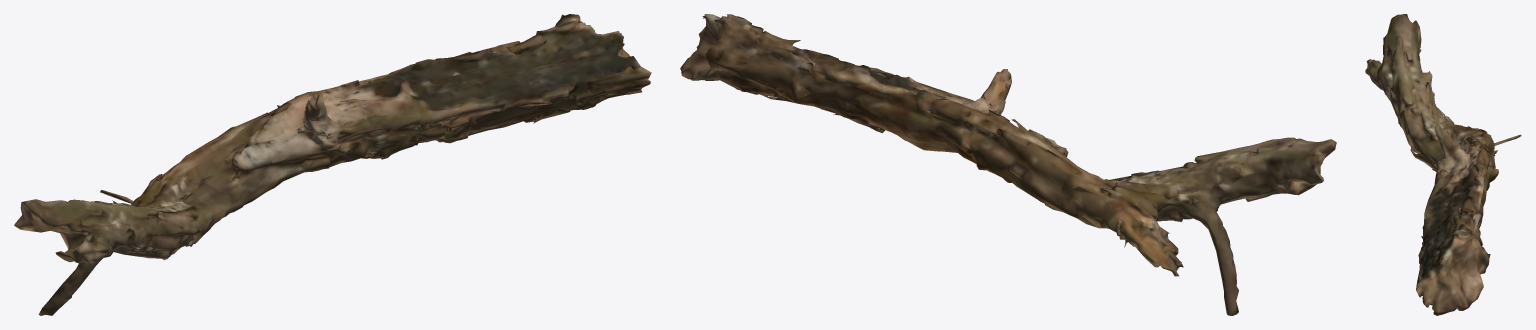
File: dead_tree_trunk_02_lod2.glb
The picture shows the model from 3 angles, left to right: view 1: azimuth 30°, elevation 25°; view 2: azimuth 150°, elevation 25°; view 3: azimuth 270°, elevation 25°; orthographic projection. The views are drawn at different scales.
Visible parts, largest first — view 1: dead_tree_trunk_02; view 2: dead_tree_trunk_02; view 3: dead_tree_trunk_02.
Part boxes in pixels (x1=…): dead_tree_trunk_02: x1=14, y1=14, x2=651, y2=315; dead_tree_trunk_02: x1=680, y1=14, x2=1336, y2=315; dead_tree_trunk_02: x1=1365, y1=14, x2=1521, y2=315.
Bounding box in the file's own units: 4.05 × 1.05 × 1.05.
Materials: 1 (1 with a texture image).
